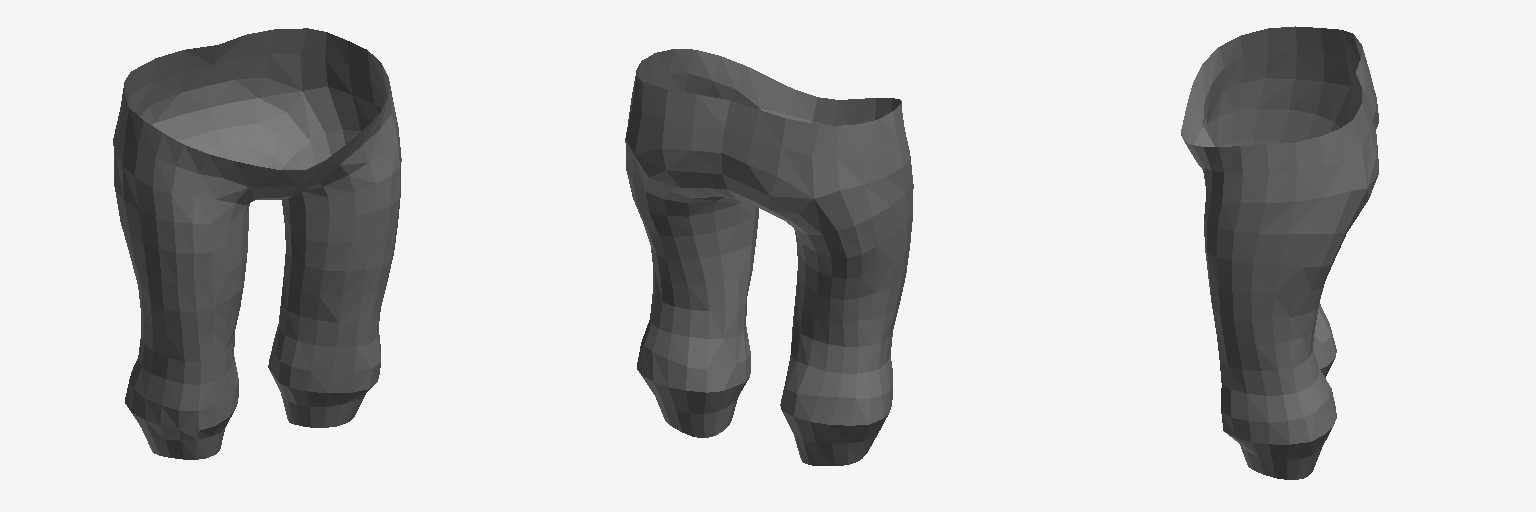
Rendered from LowPoly_Aristocrata_Calca.obj.
3 renders of one model, left to right at view 1: azimuth 30°, elevation 25°; view 2: azimuth 150°, elevation 25°; view 3: azimuth 270°, elevation 25°, orthographic.
Parts seen in each view (by area): view 1: LowPoly_Aristocrata_Calca; view 2: LowPoly_Aristocrata_Calca; view 3: LowPoly_Aristocrata_Calca.
Boxes of the visible parts, x1=… form: LowPoly_Aristocrata_Calca: x1=113, y1=28, x2=401, y2=459; LowPoly_Aristocrata_Calca: x1=625, y1=49, x2=913, y2=465; LowPoly_Aristocrata_Calca: x1=1181, y1=26, x2=1378, y2=479.
Size of the model in its own units: 46.12 by 63.16 by 30.95.